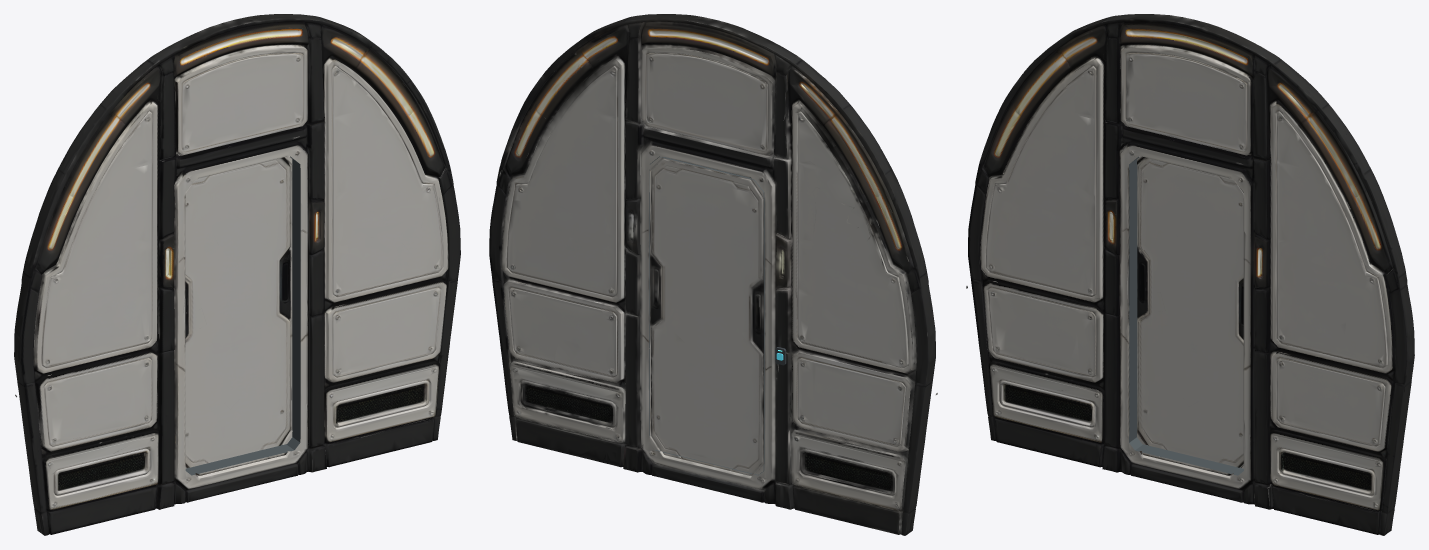
The model's file is aft-door-d2.glb.
3 renders of one model, left to right at view 1: azimuth 30°, elevation 25°; view 2: azimuth 150°, elevation 25°; view 3: azimuth 330°, elevation 25°, orthographic.
Parts seen in each view (by area): view 1: AftBulkheadFixedFrame, AftDoorLeaf; view 2: AftBulkheadFixedFrame, AftDoorLeaf; view 3: AftBulkheadFixedFrame, AftDoorLeaf.
Boxes of the visible parts, x1,y1,x2,y2 form: AftBulkheadFixedFrame: [14, 14, 460, 535]; AftDoorLeaf: [185, 156, 292, 468]; AftBulkheadFixedFrame: [489, 14, 937, 535]; AftDoorLeaf: [649, 156, 764, 474]; AftBulkheadFixedFrame: [966, 14, 1414, 535]; AftDoorLeaf: [1137, 157, 1243, 468].
Size of the model in its own units: 0.8995 by 0.8976 by 0.0468.
Materials: 5 (1 with a texture image).
